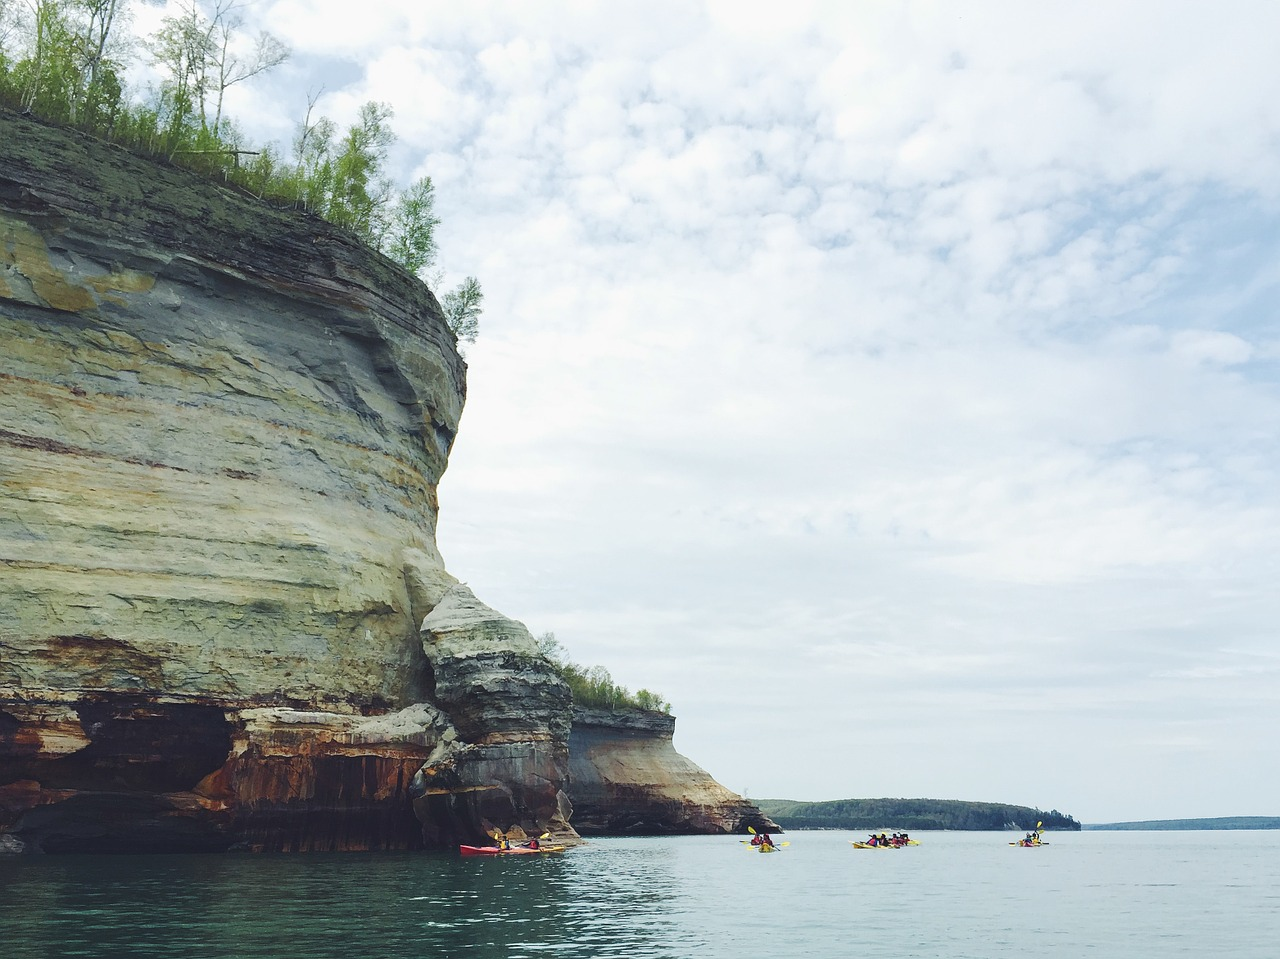kayak: (460, 845, 559, 858), (759, 845, 774, 854)
